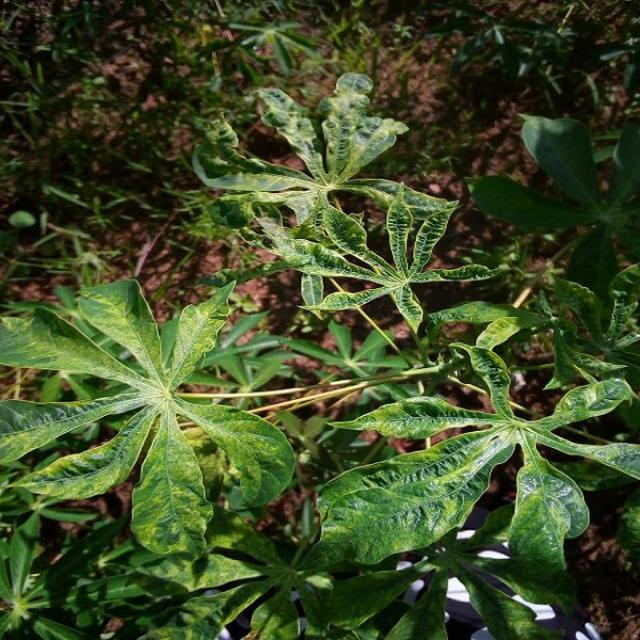cassava leaf: (0, 274, 296, 558)
